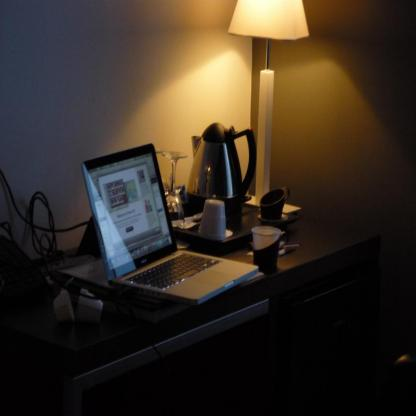board: (80, 143, 259, 303)
